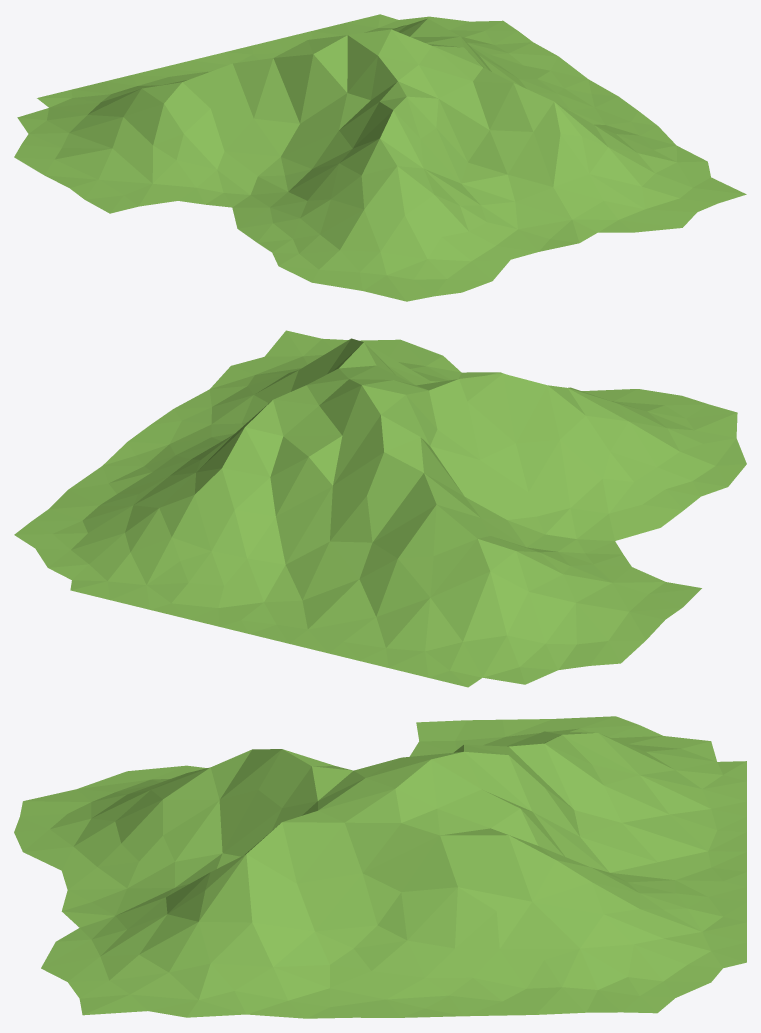
File: MT_Mountain_M_a_18_LOD.fbx
The picture shows the model from 3 angles, top to bottom: view 1: azimuth 30°, elevation 25°; view 2: azimuth 150°, elevation 25°; view 3: azimuth 270°, elevation 25°; orthographic projection. The views are drawn at different scales.
Visible parts, largest first — view 1: MT_Mountain_M_a_18_LOD0; view 2: MT_Mountain_M_a_18_LOD0; view 3: MT_Mountain_M_a_18_LOD0.
Part boxes in pixels (box(x1,y1,x2,y2)): MT_Mountain_M_a_18_LOD0: box(14, 14, 746, 301); MT_Mountain_M_a_18_LOD0: box(14, 330, 746, 687); MT_Mountain_M_a_18_LOD0: box(14, 716, 746, 1018).
Size of what is drawn, in the model's own units: 4688 by 965 by 4805.
